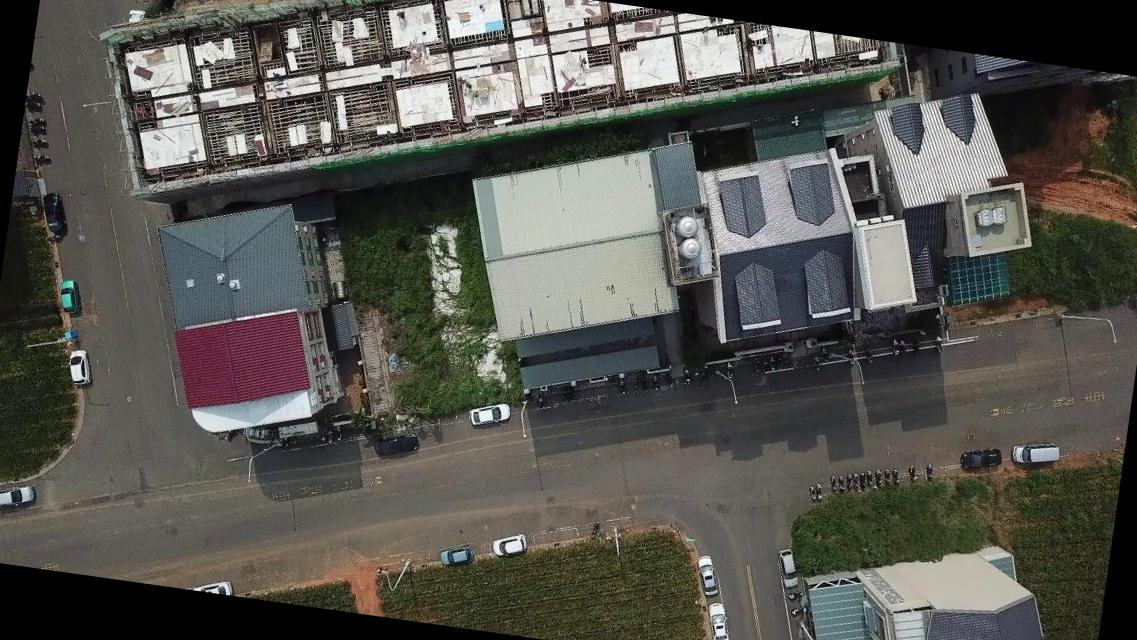vehicle: (372, 428, 420, 462), (1009, 437, 1060, 468), (466, 399, 512, 433), (692, 552, 724, 600), (37, 190, 69, 237), (957, 442, 1004, 474), (773, 547, 806, 589), (0, 479, 35, 515), (703, 601, 735, 639), (65, 347, 94, 387), (490, 530, 528, 560), (436, 542, 476, 570), (55, 278, 83, 316), (185, 576, 236, 596)
